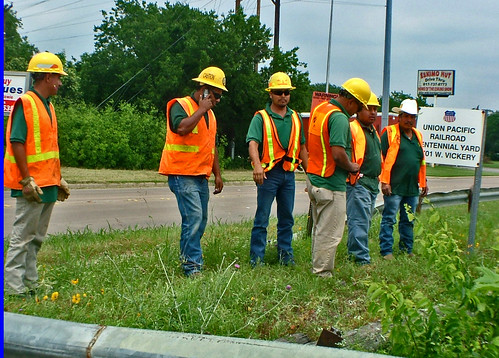person hardhat: (25, 51, 68, 97), (192, 66, 229, 109), (336, 78, 371, 117), (265, 72, 298, 108), (357, 91, 380, 124)
